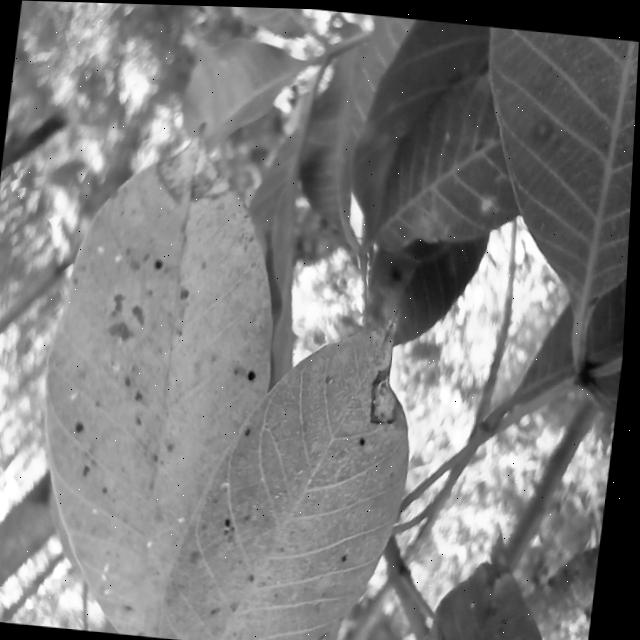Leaf-Blight: (158, 116, 237, 200), (375, 372, 406, 420), (157, 256, 167, 269), (250, 367, 260, 378), (79, 421, 88, 432), (346, 550, 354, 558), (363, 433, 370, 442), (249, 425, 256, 433), (229, 516, 236, 524)
